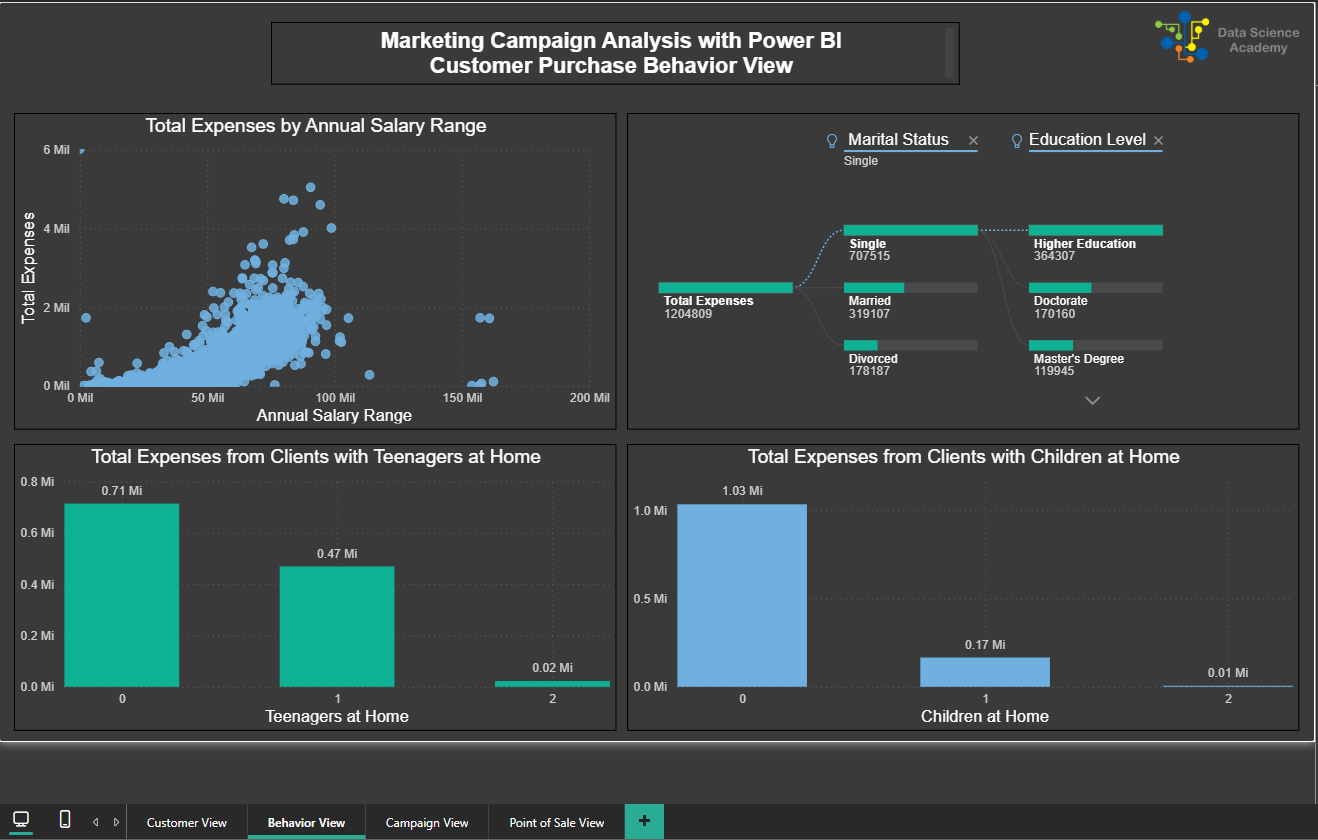

Layout of this report page (visuals, bound fields, positions):
{"tool":"powerbi","page":{"name":"Behavior View","canvas":[1280,720],"ordinal":1},"visuals":[{"type":"scatterChart","title":"Total Expenses by Annual Salary Range","fields":{"X":["Sum(Projeto 1.Salario Anual)"],"Y":["Projeto 1.TotalGasto"]},"box":[14.6,108,585.5,308.3],"z":0},{"type":"columnChart","title":"Total Expenses from Clients with Teenagers at Home","fields":{"Y":["Projeto 1.TotalGasto"],"Category":["Projeto 1.Adolescentes em Casa"]},"box":[14.6,429.9,585.5,279.1],"z":1000},{"type":"columnChart","title":"Total Expenses from Clients with Children at Home","fields":{"Y":["Projeto 1.Total Expenses"],"Category":["Projeto 1.Filhos em Casa"]},"box":[610.8,429.9,653.6,279.1],"z":2000},{"type":"decompositionTreeVisual","fields":{"Analyze":["Projeto 1.TotalGasto"],"ExplainBy":["Projeto 1.Estado Civil","Projeto 1.Escolaridade"]},"box":[610.8,108,653.6,308.3],"z":3000},{"type":"textbox","box":[264.6,19.5,670.2,61.3],"z":4000},{"type":"image","box":[1119.5,0,149.8,67.1],"z":5000}]}

Visuals, with their boxes on the page's 1280x720 design canvas (x1, y1, x2, y2). These are canvas units, not pixel positions in the 1318x840 screenshot, which may show the page scaled, cropped or inside an application window:
"Total Expenses by Annual Salary Range" scatterChart: [15,108,600,416]
"Total Expenses from Clients with Teenagers at Home" columnChart: [15,430,600,709]
"Total Expenses from Clients with Children at Home" columnChart: [611,430,1264,709]
decompositionTreeVisual - Projeto 1.TotalGasto x Projeto 1.Estado Civil: [611,108,1264,416]
textbox: [265,20,935,81]
image: [1120,0,1269,67]
